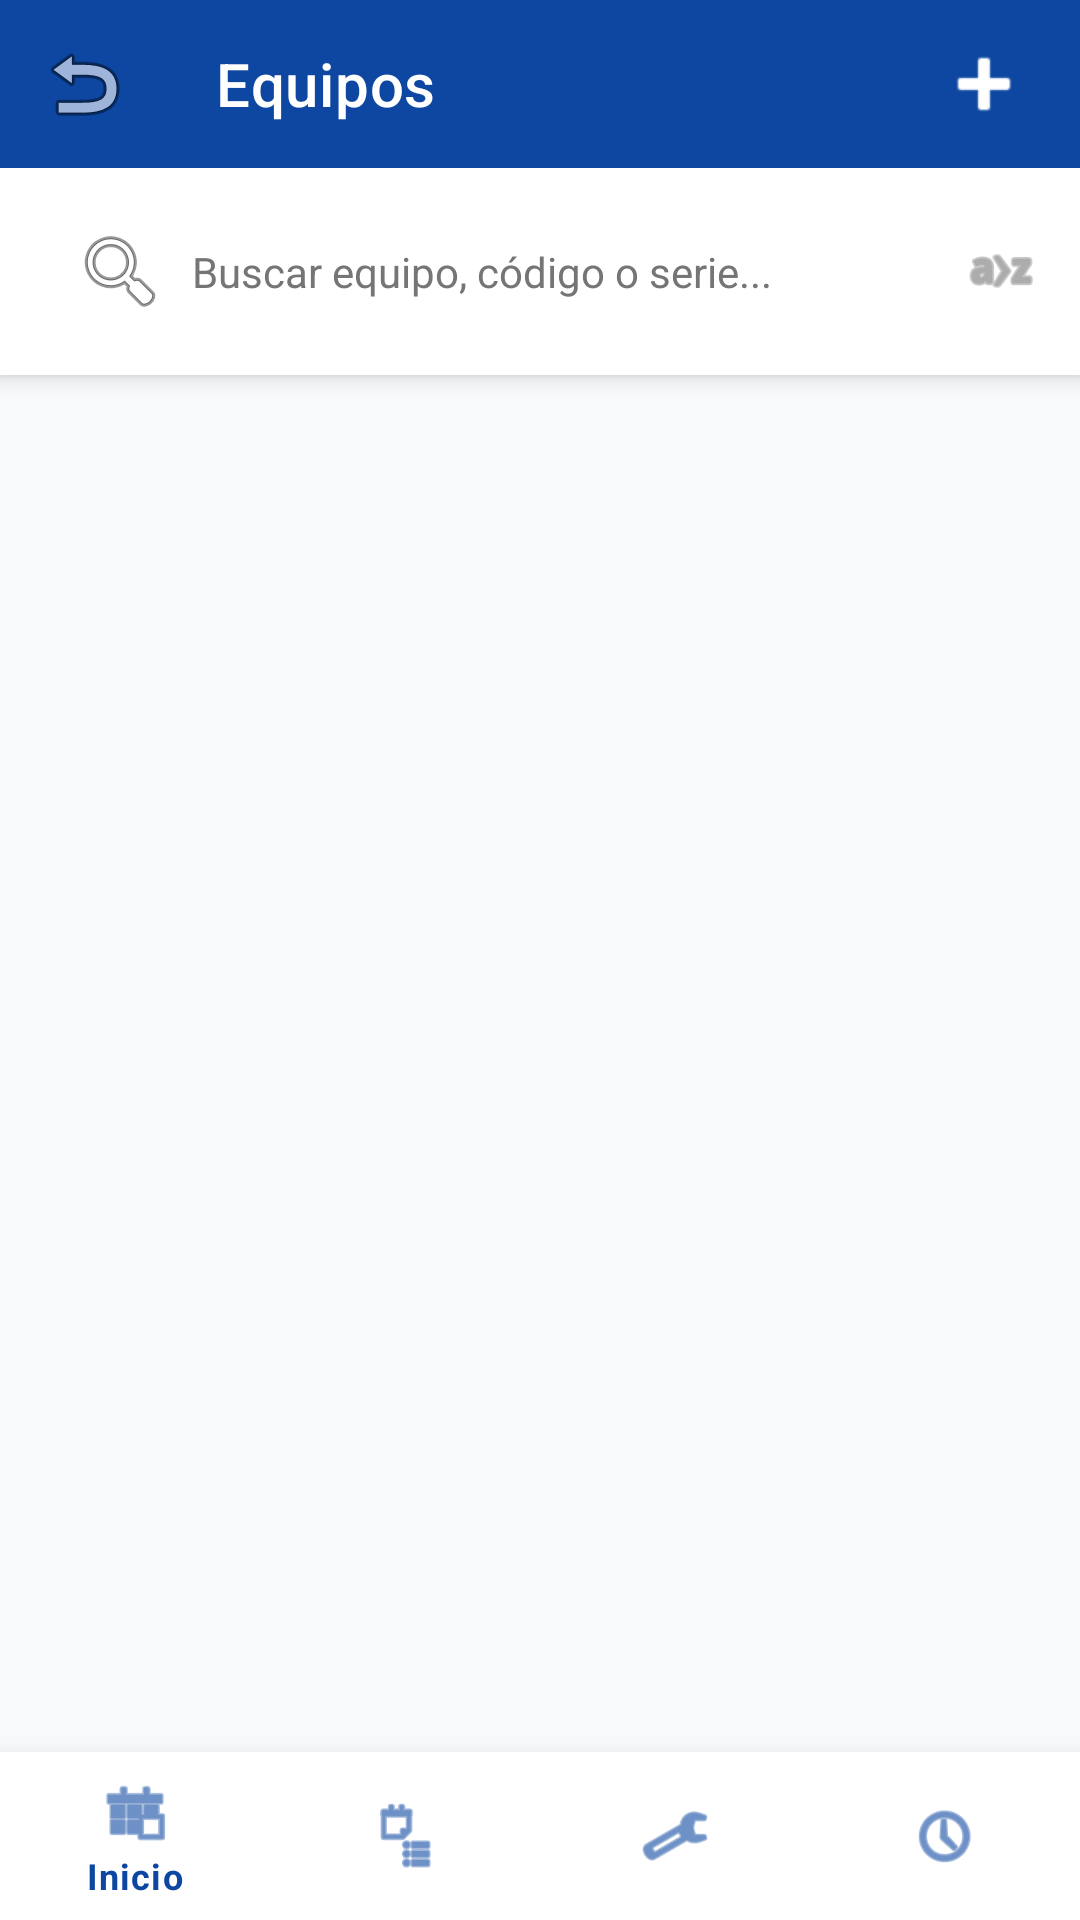

Screen size 1080 × 1920. Icon name, then its center in pixels as point (x, y):
Agregar Equipo: point (984, 84)
